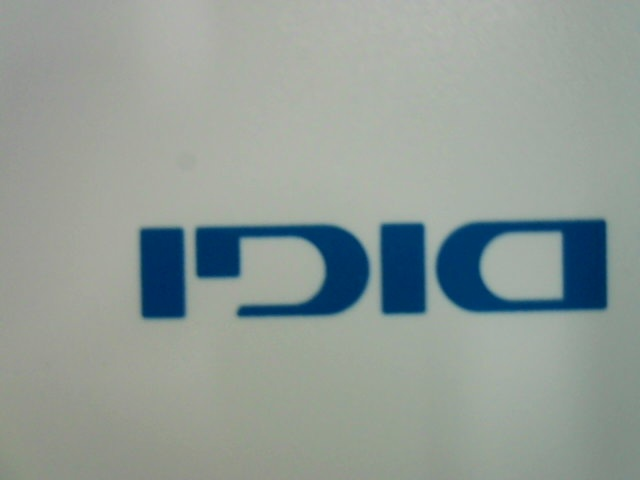BL_DIGI: (131, 215, 617, 329)
